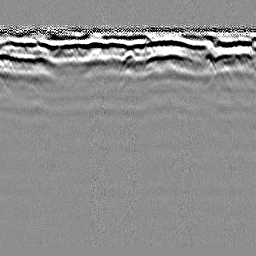cavity: (122, 49, 136, 63)
